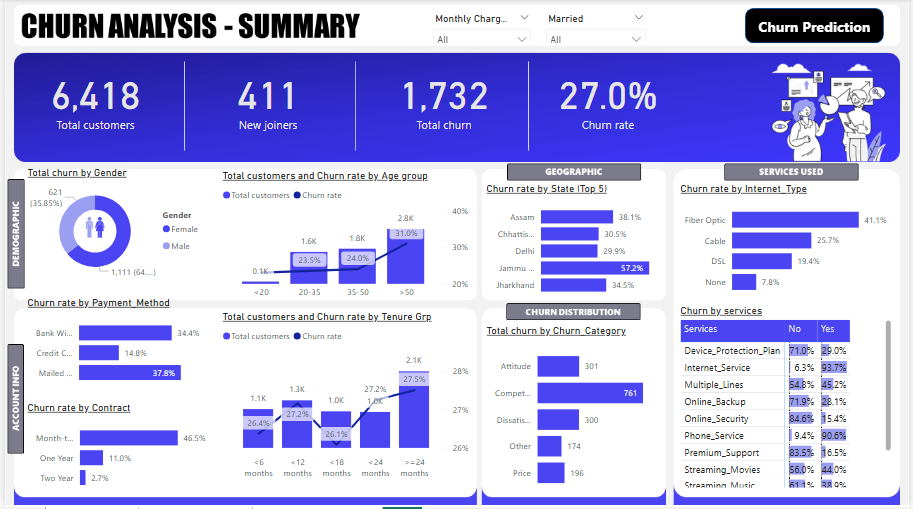

The page's visual inventory and layout, read from the dashboard file:
{"tool":"powerbi","page":{"name":"Summary","canvas":[1280,720],"ordinal":0},"visuals":[{"type":"image","box":[98,298.5,59.4,47.5],"z":0},{"type":"card","fields":{"Values":["tbl_measure.Total customers"]},"box":[26.9,76.5,202.7,127.6],"z":1000},{"type":"donutChart","fields":{"Category":["prod_Churn.Gender"],"Y":["tbl_measure.Total churn"]},"box":[26.9,238.1,262.2,165.8],"z":2000},{"type":"card","fields":{"Values":["tbl_measure.New joiners"]},"box":[277.8,76.5,189.9,127.6],"z":3000},{"type":"card","fields":{"Values":["tbl_measure.Total churn"]},"box":[525.8,76.5,192.8,127.6],"z":4000},{"type":"card","fields":{"Values":["tbl_measure.Churn rate"]},"box":[756.9,76.5,195.6,127.6],"z":5000},{"type":"lineStackedColumnComboChart","fields":{"Category":["mapping AgeGrp.Age group"],"Y":["tbl_measure.Total customers"],"Y2":["tbl_measure.Churn rate"]},"box":[303.3,242.4,358.6,191.3],"z":6000},{"type":"clusteredBarChart","fields":{"Category":["prod_Churn.Payment_Method"],"Y":["tbl_measure.Churn rate"]},"box":[26.7,421.7,261.3,135.1],"z":7000},{"type":"clusteredBarChart","fields":{"Category":["prod_Churn.Contract"],"Y":["tbl_measure.Churn rate"]},"box":[26.7,571.7,262.8,135.1],"z":8000},{"type":"lineStackedColumnComboChart","fields":{"Category":["mapping TenureGrp.Tenure Grp"],"Y":["tbl_measure.Total customers"],"Y2":["tbl_measure.Churn rate"]},"box":[302.9,442.5,359.4,245],"z":9000},{"type":"clusteredBarChart","title":"Churn rate by State (Top 5)","fields":{"Category":["prod_Churn.State"],"Y":["tbl_measure.Churn rate"]},"box":[677.1,261.3,274.7,169.3],"z":10000},{"type":"clusteredBarChart","fields":{"Category":["prod_Churn.Churn_Category"],"Y":["tbl_measure.Total churn"]},"box":[677.5,462,256.5,245.2],"z":11000},{"type":"clusteredBarChart","fields":{"Category":["prod_Churn.Internet_Type"],"Y":["tbl_measure.Churn rate"]},"box":[951.8,261.3,308.9,169.3],"z":12000},{"type":"pivotTable","title":"Churn by services","fields":{"Rows":["prob_Services.Services"],"Columns":["prob_Services.Status"],"Values":["Sum(prob_Services.Churn Status)"]},"box":[951.8,433.6,308.9,264.3],"z":13000},{"type":"slicer","fields":{"Values":["prob_Services.Monthly Charge Status"]},"box":[597.1,14.3,159.1,48.3],"z":14000},{"type":"slicer","fields":{"Values":["prob_Services.Married"]},"box":[756.2,14.3,160.9,48.3],"z":15000},{"type":"shape","box":[1049.4,12.5,196.6,50.1],"z":15001}]}

Visuals, with their boxes in screenshot pixels (x1, y1, x2, y2), scaled from the page's 1280x720 canvas onto the 913x509 screenshot:
image: l=70, t=211, r=112, b=245
card - tbl_measure.Total customers: l=19, t=54, r=164, b=144
donutChart - prod_Churn.Gender x tbl_measure.Total churn: l=19, t=168, r=206, b=286
card - tbl_measure.New joiners: l=198, t=54, r=334, b=144
card - tbl_measure.Total churn: l=375, t=54, r=513, b=144
card - tbl_measure.Churn rate: l=540, t=54, r=679, b=144
lineStackedColumnComboChart - mapping AgeGrp.Age group x tbl_measure.Total customers: l=216, t=171, r=472, b=307
clusteredBarChart - prod_Churn.Payment_Method x tbl_measure.Churn rate: l=19, t=298, r=205, b=394
clusteredBarChart - prod_Churn.Contract x tbl_measure.Churn rate: l=19, t=404, r=206, b=500
lineStackedColumnComboChart - mapping TenureGrp.Tenure Grp x tbl_measure.Total customers: l=216, t=313, r=472, b=486
"Churn rate by State (Top 5)" clusteredBarChart: l=483, t=185, r=679, b=304
clusteredBarChart - prod_Churn.Churn_Category x tbl_measure.Total churn: l=483, t=327, r=666, b=500
clusteredBarChart - prod_Churn.Internet_Type x tbl_measure.Churn rate: l=679, t=185, r=899, b=304
"Churn by services" pivotTable: l=679, t=307, r=899, b=493
slicer - prob_Services.Monthly Charge Status: l=426, t=10, r=539, b=44
slicer - prob_Services.Married: l=539, t=10, r=654, b=44
shape: l=749, t=9, r=889, b=44
